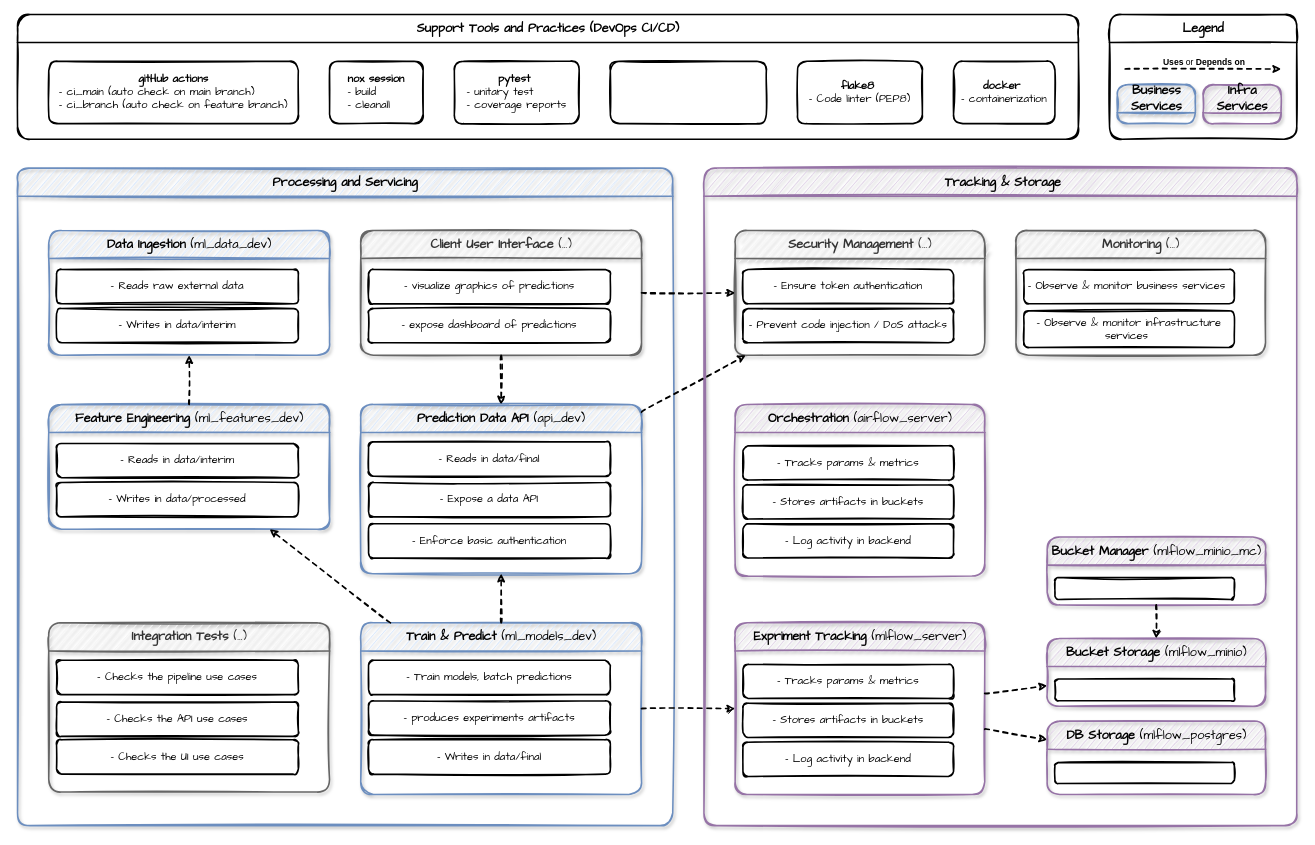
Image size: 1315x845. Some labels were removed from this diagram. Each missing label, with the centre of its shape:
- MLflow backend database: (x=1144, y=772)
- MLflow bucket management: (x=1144, y=588)
- MLflow bucket store: (x=1144, y=689)
dvc - pipeline unitary execution - dataset versioning: (x=688, y=92)
